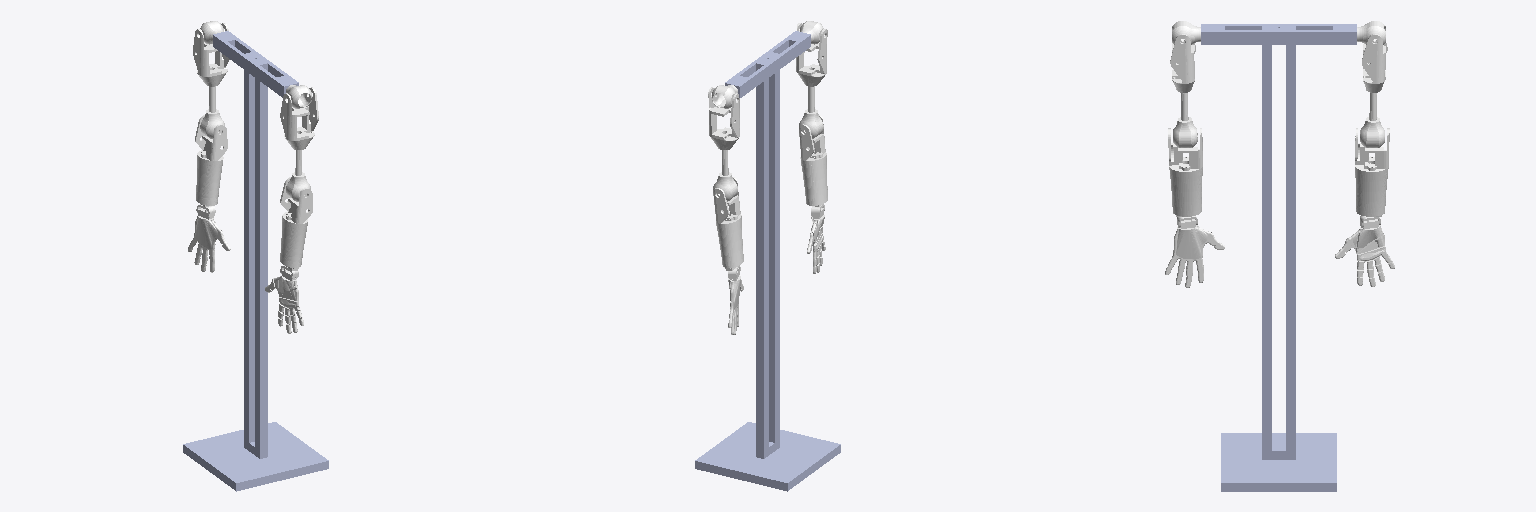
robot.urdf — gemini_urdf:
<?xml version="1.0" encoding="utf-8"?>
<!-- This URDF was automatically created by SolidWorks to URDF Exporter! Originally created by [author] ([email redacted]) 
     Commit Version: 1.5.1-0-g916b5db  Build Version: 1.5.7152.31018
     For more information, please see http://wiki.ros.org/sw_urdf_exporter -->
<robot
  name="gemini_urdf">
  <link
    name="base_link">
    <inertial>
      <origin
        xyz="0.5342 0.31834 1.0008"
        rpy="0 0 0" />
      <mass
        value="4.5293" />
      <inertia
        ixx="0.97293"
        ixy="1.6785E-18"
        ixz="-1.3902E-18"
        iyy="0.04396"
        iyz="-1.2852E-16"
        izz="0.96599" />
    </inertial>
    <visual>
      <origin
        xyz="0 0 0"
        rpy="0 0 0" />
      <geometry>
        <mesh
          filename="package://gemini_urdf/meshes/base_link.STL" />
      </geometry>
      <material
        name="">
        <color
          rgba="0.79216 0.81961 0.93333 1" />
      </material>
    </visual>
    <collision>
      <origin
        xyz="0 0 0"
        rpy="0 0 0" />
      <geometry>
        <mesh
          filename="package://gemini_urdf/meshes/base_link.STL" />
      </geometry>
    </collision>
  </link>
  <link
    name="r_shoulder_ball">
    <inertial>
      <origin
        xyz="4.7354533627697E-09 4.96404695127239E-09 -0.0394697291071835"
        rpy="0 0 0" />
      <mass
        value="0.0544711759133272" />
      <inertia
        ixx="4.16386318474761E-05"
        ixy="-8.0073242821514E-11"
        ixz="-1.20199057837973E-11"
        iyy="4.62851094387099E-05"
        iyz="-3.59209946912273E-11"
        izz="3.82219025568903E-05" />
    </inertial>
    <visual>
      <origin
        xyz="0 0 0"
        rpy="0 0 0" />
      <geometry>
        <mesh
          filename="package://gemini_urdf/meshes/r_shoulder_ball.STL" />
      </geometry>
      <material
        name="">
        <color
          rgba="1 1 1 1" />
      </material>
    </visual>
    <collision>
      <origin
        xyz="0 0 0"
        rpy="0 0 0" />
      <geometry>
        <mesh
          filename="package://gemini_urdf/meshes/r_shoulder_ball.STL" />
      </geometry>
    </collision>
  </link>
  <joint
    name="rs1"
    type="continuous">
    <origin
      xyz="0.5342 -1.2006 1.1783"
      rpy="1.5708 -0.0040924 3.1416" />
    <parent
      link="base_link" />
    <child
      link="r_shoulder_ball" />
    <axis
      xyz="0 0 1" />
  </joint>
  <link
    name="r_bicept">
    <inertial>
      <origin
        xyz="-0.00100559107551867 2.46885547094955E-06 0.103420375905638"
        rpy="0 0 0" />
      <mass
        value="0.272459883078294" />
      <inertia
        ixx="0.000714949499290936"
        ixy="-1.17195329165907E-05"
        ixz="-2.94068577155733E-09"
        iyy="0.000573884889805494"
        iyz="-2.9593981545266E-08"
        izz="0.000255692740695556" />
    </inertial>
    <visual>
      <origin
        xyz="0 0 0"
        rpy="0 0 0" />
      <geometry>
        <mesh
          filename="package://gemini_urdf/meshes/r_bicept.STL" />
      </geometry>
      <material
        name="">
        <color
          rgba="1 1 1 1" />
      </material>
    </visual>
    <collision>
      <origin
        xyz="0 0 0"
        rpy="0 0 0" />
      <geometry>
        <mesh
          filename="package://gemini_urdf/meshes/r_bicept.STL" />
      </geometry>
    </collision>
  </link>
  <joint
    name="rs2"
    type="continuous">
    <origin
      xyz="0 0 -0.05"
      rpy="0 -1.5481 1.5708" />
    <parent
      link="r_shoulder_ball" />
    <child
      link="r_bicept" />
    <axis
      xyz="0 1 0" />
  </joint>
  <link
    name="r_elbow_ball">
    <inertial>
      <origin
        xyz="5.579627426755E-09 3.33881822189852E-09 -0.0411716393287669"
        rpy="0 0 0" />
      <mass
        value="0.0544711805998193" />
      <inertia
        ixx="4.16386350282787E-05"
        ixy="-8.01710968297638E-11"
        ixz="-7.08166952979222E-12"
        iyy="4.62851156719021E-05"
        iyz="-3.51591161331876E-11"
        izz="3.82219030866654E-05" />
    </inertial>
    <visual>
      <origin
        xyz="0 0 0"
        rpy="0 0 0" />
      <geometry>
        <mesh
          filename="package://gemini_urdf/meshes/r_elbow_ball.STL" />
      </geometry>
      <material
        name="">
        <color
          rgba="1 1 1 1" />
      </material>
    </visual>
    <collision>
      <origin
        xyz="0 0 0"
        rpy="0 0 0" />
      <geometry>
        <mesh
          filename="package://gemini_urdf/meshes/r_elbow_ball.STL" />
      </geometry>
    </collision>
  </link>
  <joint
    name="re1"
    type="continuous">
    <origin
      xyz="-0.0010053 0 0.24065"
      rpy="-3.1416 0 0.00012242" />
    <parent
      link="r_bicept" />
    <child
      link="r_elbow_ball" />
    <axis
      xyz="0 0 1" />
  </joint>
  <link
    name="r_forearm">
    <inertial>
      <origin
        xyz="-0.0007375298690393 0.000193675483442457 0.0951334467415538"
        rpy="0 0 0" />
      <mass
        value="0.40633983271627" />
      <inertia
        ixx="0.000593959126155207"
        ixy="3.33650513451329E-06"
        ixz="5.63176013190523E-06"
        iyy="0.000821848036104355"
        iyz="8.81223757790784E-07"
        izz="0.000304533144855543" />
    </inertial>
    <visual>
      <origin
        xyz="0 0 0"
        rpy="0 0 0" />
      <geometry>
        <mesh
          filename="package://gemini_urdf/meshes/r_forearm.STL" />
      </geometry>
      <material
        name="">
        <color
          rgba="1 1 1 1" />
      </material>
    </visual>
    <collision>
      <origin
        xyz="0 0 0"
        rpy="0 0 0" />
      <geometry>
        <mesh
          filename="package://gemini_urdf/meshes/r_forearm.STL" />
      </geometry>
    </collision>
  </link>
  <joint
    name="re2"
    type="continuous">
    <origin
      xyz="-7.2564E-05 0.021803 -0.27981"
      rpy="0.095807 0.0031737 -0.033013" />
    <parent
      link="r_elbow_ball" />
    <child
      link="r_forearm" />
    <axis
      xyz="1 0 0" />
  </joint>
  <link
    name="r_wrist">
    <inertial>
      <origin
        xyz="0.0146201857300534 -1.66533453693773E-16 4.44089209850063E-16"
        rpy="0 0 0" />
      <mass
        value="0.0120708298165579" />
      <inertia
        ixx="4.50218447918877E-06"
        ixy="2.76278324592711E-22"
        ixz="8.93024189312249E-21"
        iyy="4.73440053913698E-06"
        iyz="1.88464830764082E-20"
        izz="1.51423045487237E-06" />
    </inertial>
    <visual>
      <origin
        xyz="0 0 0"
        rpy="0 0 0" />
      <geometry>
        <mesh
          filename="package://gemini_urdf/meshes/r_wrist.STL" />
      </geometry>
      <material
        name="">
        <color
          rgba="1 1 1 1" />
      </material>
    </visual>
    <collision>
      <origin
        xyz="0 0 0"
        rpy="0 0 0" />
      <geometry>
        <mesh
          filename="package://gemini_urdf/meshes/r_wrist.STL" />
      </geometry>
    </collision>
  </link>
  <joint
    name="rw1"
    type="continuous">
    <origin
      xyz="0 0 -0.0079263"
      rpy="2.8806 1.5708 0" />
    <parent
      link="r_forearm" />
    <child
      link="r_wrist" />
    <axis
      xyz="1 0 0" />
  </joint>
  <link
    name="r_hand">
    <inertial>
      <origin
        xyz="0.00451726055781632 0.0619078942856783 -0.000800417659166719"
        rpy="0 0 0" />
      <mass
        value="0.178970864822292" />
      <inertia
        ixx="0.000265184422516135"
        ixy="2.96471793978179E-05"
        ixz="-5.35801900737643E-07"
        iyy="0.000136527540218109"
        iyz="-2.81196869973056E-06"
        izz="0.000391228774291645" />
    </inertial>
    <visual>
      <origin
        xyz="0 0 0"
        rpy="0 0 0" />
      <geometry>
        <mesh
          filename="package://gemini_urdf/meshes/r_hand.STL" />
      </geometry>
      <material
        name="">
        <color
          rgba="1 1 1 1" />
      </material>
    </visual>
    <collision>
      <origin
        xyz="0 0 0"
        rpy="0 0 0" />
      <geometry>
        <mesh
          filename="package://gemini_urdf/meshes/r_hand.STL" />
      </geometry>
    </collision>
  </link>
  <joint
    name="rw2"
    type="continuous">
    <origin
      xyz="0.030114 0 0"
      rpy="1.4793 1.5708 0" />
    <parent
      link="r_wrist" />
    <child
      link="r_hand" />
    <axis
      xyz="1 0 0" />
  </joint>
  <link
    name="l_shoulder_ball">
    <inertial>
      <origin
        xyz="6.2371143805251E-09 5.16012210738381E-09 0.0405440960537498"
        rpy="0 0 0" />
      <mass
        value="0.0544711802480257" />
      <inertia
        ixx="4.16386347275612E-05"
        ixy="-8.02979166423697E-11"
        ixz="-9.44432761994934E-12"
        iyy="4.62851153976195E-05"
        iyz="-3.59594411893348E-11"
        izz="3.82219033168237E-05" />
    </inertial>
    <visual>
      <origin
        xyz="0 0 0"
        rpy="0 0 0" />
      <geometry>
        <mesh
          filename="package://gemini_urdf/meshes/l_shoulder_ball.STL" />
      </geometry>
      <material
        name="">
        <color
          rgba="1 1 1 1" />
      </material>
    </visual>
    <collision>
      <origin
        xyz="0 0 0"
        rpy="0 0 0" />
      <geometry>
        <mesh
          filename="package://gemini_urdf/meshes/l_shoulder_ball.STL" />
      </geometry>
    </collision>
  </link>
  <joint
    name="ls1"
    type="continuous">
    <origin
      xyz="0.5342 -0.72092 1.1783"
      rpy="1.5708 0.0040924 0" />
    <parent
      link="base_link" />
    <child
      link="l_shoulder_ball" />
    <axis
      xyz="0 0 1" />
  </joint>
  <link
    name="l_bicept">
    <inertial>
      <origin
        xyz="-3.22171699984608E-07 2.47687296439647E-06 0.103443210779643"
        rpy="0 0 0" />
      <mass
        value="0.272459907071766" />
      <inertia
        ixx="0.000714949661933871"
        ixy="-1.17195579489458E-05"
        ixz="-2.95555807770357E-09"
        iyy="0.000573884895229675"
        iyz="-2.95084293710081E-08"
        izz="0.00025569278491142" />
    </inertial>
    <visual>
      <origin
        xyz="0 0 0"
        rpy="0 0 0" />
      <geometry>
        <mesh
          filename="package://gemini_urdf/meshes/l_bicept.STL" />
      </geometry>
      <material
        name="">
        <color
          rgba="1 1 1 1" />
      </material>
    </visual>
    <collision>
      <origin
        xyz="0 0 0"
        rpy="0 0 0" />
      <geometry>
        <mesh
          filename="package://gemini_urdf/meshes/l_bicept.STL" />
      </geometry>
    </collision>
  </link>
  <joint
    name="ls2"
    type="continuous">
    <origin
      xyz="0 0 0.029008"
      rpy="0 1.5481 -1.5708" />
    <parent
      link="l_shoulder_ball" />
    <child
      link="l_bicept" />
    <axis
      xyz="0 1 0" />
  </joint>
  <link
    name="l_elbow_ball">
    <inertial>
      <origin
        xyz="4.82088036157791E-09 6.76370126573289E-09 -0.0396882448554228"
        rpy="0 0 0" />
      <mass
        value="0.0544711765716627" />
      <inertia
        ixx="4.16386322117842E-05"
        ixy="-7.99853524244234E-11"
        ixz="-1.39495005281165E-11"
        iyy="4.6285109623003E-05"
        iyz="-3.77840024472415E-11"
        izz="3.82219023335045E-05" />
    </inertial>
    <visual>
      <origin
        xyz="0 0 0"
        rpy="0 0 0" />
      <geometry>
        <mesh
          filename="package://gemini_urdf/meshes/l_elbow_ball.STL" />
      </geometry>
      <material
        name="">
        <color
          rgba="1 1 1 1" />
      </material>
    </visual>
    <collision>
      <origin
        xyz="0 0 0"
        rpy="0 0 0" />
      <geometry>
        <mesh
          filename="package://gemini_urdf/meshes/l_elbow_ball.STL" />
      </geometry>
    </collision>
  </link>
  <joint
    name="le1"
    type="continuous">
    <origin
      xyz="0 0 0.24215"
      rpy="-3.1416 0 -0.00012242" />
    <parent
      link="l_bicept" />
    <child
      link="l_elbow_ball" />
    <axis
      xyz="0 0 1" />
  </joint>
  <link
    name="l_forearm">
    <inertial>
      <origin
        xyz="0.000836628746647805 0.0001935098308396 0.095132830953257"
        rpy="0 0 0" />
      <mass
        value="0.406348916051301" />
      <inertia
        ixx="0.000594681973207758"
        ixy="9.38620920126011E-06"
        ixz="5.58091741728226E-06"
        iyy="0.000821148239629605"
        iyz="8.8769242386199E-07"
        izz="0.000304538235611721" />
    </inertial>
    <visual>
      <origin
        xyz="0 0 0"
        rpy="0 0 0" />
      <geometry>
        <mesh
          filename="package://gemini_urdf/meshes/l_forearm.STL" />
      </geometry>
      <material
        name="">
        <color
          rgba="1 1 1 1" />
      </material>
    </visual>
    <collision>
      <origin
        xyz="0 0 0"
        rpy="0 0 0" />
      <geometry>
        <mesh
          filename="package://gemini_urdf/meshes/l_forearm.STL" />
      </geometry>
    </collision>
  </link>
  <joint
    name="le2"
    type="continuous">
    <origin
      xyz="0.0001066 0.021804 -0.27833"
      rpy="0.095807 -0.0031737 0.033013" />
    <parent
      link="l_elbow_ball" />
    <child
      link="l_forearm" />
    <axis
      xyz="1 0 0" />
  </joint>
  <link
    name="l_wrist">
    <inertial>
      <origin
        xyz="0.0133544170174819 -5.99520433297585E-15 -1.56541446472147E-14"
        rpy="0 0 0" />
      <mass
        value="0.0120708298165578" />
      <inertia
        ixx="4.50218447918875E-06"
        ixy="7.22955855371346E-22"
        ixz="1.2573145310806E-21"
        iyy="4.73440053913696E-06"
        iyz="1.59612770998232E-20"
        izz="1.51423045487236E-06" />
    </inertial>
    <visual>
      <origin
        xyz="0 0 0"
        rpy="0 0 0" />
      <geometry>
        <mesh
          filename="package://gemini_urdf/meshes/l_wrist.STL" />
      </geometry>
      <material
        name="">
        <color
          rgba="1 1 1 1" />
      </material>
    </visual>
    <collision>
      <origin
        xyz="0 0 0"
        rpy="0 0 0" />
      <geometry>
        <mesh
          filename="package://gemini_urdf/meshes/l_wrist.STL" />
      </geometry>
    </collision>
  </link>
  <joint
    name="lw1"
    type="continuous">
    <origin
      xyz="-3.4055E-05 0 -0.0091921"
      rpy="2.8806 1.5708 0" />
    <parent
      link="l_forearm" />
    <child
      link="l_wrist" />
    <axis
      xyz="1 0 0" />
  </joint>
  <link
    name="l_hand">
    <inertial>
      <origin
        xyz="0.00451090631976592 0.0619058412886233 -0.00080034540265006"
        rpy="0 0 0" />
      <mass
        value="0.178955913206803" />
      <inertia
        ixx="0.000265161033087422"
        ixy="2.96325083189168E-05"
        ixz="-5.30420776755232E-07"
        iyy="0.00013652876323698"
        iyz="-2.8119585320385E-06"
        izz="0.000391206453798622" />
    </inertial>
    <visual>
      <origin
        xyz="0 0 0"
        rpy="0 0 0" />
      <geometry>
        <mesh
          filename="package://gemini_urdf/meshes/l_hand.STL" />
      </geometry>
      <material
        name="">
        <color
          rgba="1 1 1 1" />
      </material>
    </visual>
    <collision>
      <origin
        xyz="0 0 0"
        rpy="0 0 0" />
      <geometry>
        <mesh
          filename="package://gemini_urdf/meshes/l_hand.STL" />
      </geometry>
    </collision>
  </link>
  <joint
    name="lw2"
    type="continuous">
    <origin
      xyz="0.028848 0 0"
      rpy="0.64526 -1.5708 -2.1229" />
    <parent
      link="l_wrist" />
    <child
      link="l_hand" />
    <axis
      xyz="1 0 0" />
  </joint>
</robot>

--- Render facts (derived) ---
Views: 3 orthographic renders of the robot side by side, from view 1: azimuth 30°, elevation 25°; view 2: azimuth 150°, elevation 25°; view 3: azimuth 270°, elevation 25°.
Model gemini_urdf with 13 links and 12 joints (12 continuous), rooted at base_link, posed all joints at 0.
Links seen in each view (by area): view 1: base_link, l_forearm, r_forearm, r_bicept, l_bicept, l_hand, r_hand; view 2: base_link, r_forearm, l_forearm, l_bicept, r_bicept, r_hand, l_hand; view 3: base_link, r_forearm, l_forearm, r_hand, l_hand, l_bicept, r_bicept, l_elbow_ball, r_elbow_ball.
Boxes of the visible links, x1=… form: base_link: x1=183, y1=31, x2=328, y2=491; l_forearm: x1=195, y1=115, x2=227, y2=206; r_forearm: x1=280, y1=177, x2=312, y2=270; r_bicept: x1=280, y1=87, x2=318, y2=175; l_bicept: x1=193, y1=23, x2=229, y2=112; l_hand: x1=188, y1=208, x2=230, y2=272; r_hand: x1=265, y1=269, x2=303, y2=333; base_link: x1=695, y1=31, x2=840, y2=491; r_forearm: x1=799, y1=115, x2=827, y2=206; l_forearm: x1=713, y1=177, x2=743, y2=270; l_bicept: x1=708, y1=87, x2=739, y2=175; r_bicept: x1=796, y1=23, x2=827, y2=112; r_hand: x1=807, y1=208, x2=825, y2=273; l_hand: x1=728, y1=268, x2=743, y2=334; base_link: x1=1201, y1=24, x2=1356, y2=491; r_forearm: x1=1168, y1=128, x2=1202, y2=216; l_forearm: x1=1355, y1=128, x2=1389, y2=216; r_hand: x1=1165, y1=219, x2=1224, y2=287; l_hand: x1=1335, y1=219, x2=1394, y2=286; l_bicept: x1=1362, y1=34, x2=1387, y2=120; r_bicept: x1=1170, y1=34, x2=1195, y2=120; l_elbow_ball: x1=1360, y1=117, x2=1384, y2=147; r_elbow_ball: x1=1173, y1=117, x2=1197, y2=147.
Bounding box of the posed robot: 0.3048 × 0.5999 × 1.28 m (x, y, z).
13 mesh visuals loaded from 13 distinct referenced files (13 binary STL).